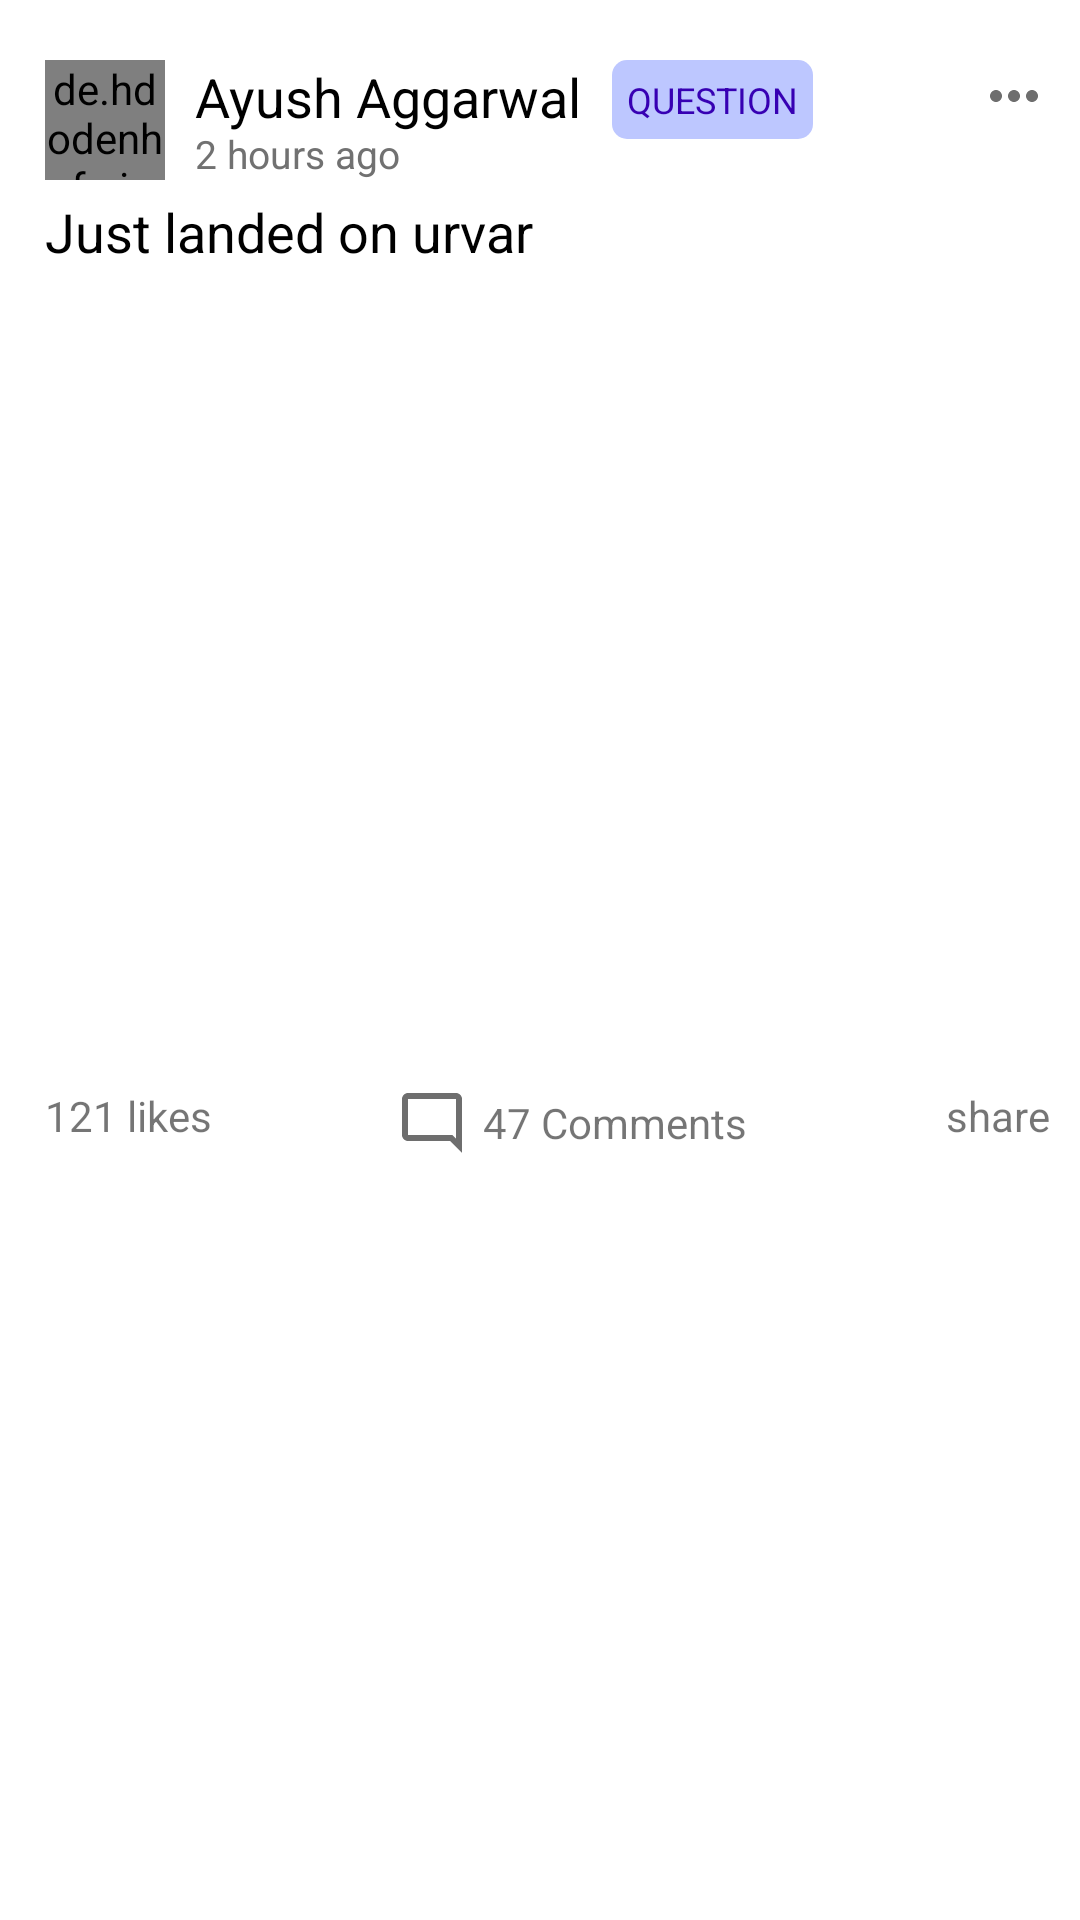

Where icons sit on this 1080px x 1920px app screen, as (x1, y1, x2, y2):
mode comment: (402, 1093, 462, 1153)
more horiz: (990, 90, 1038, 102)
